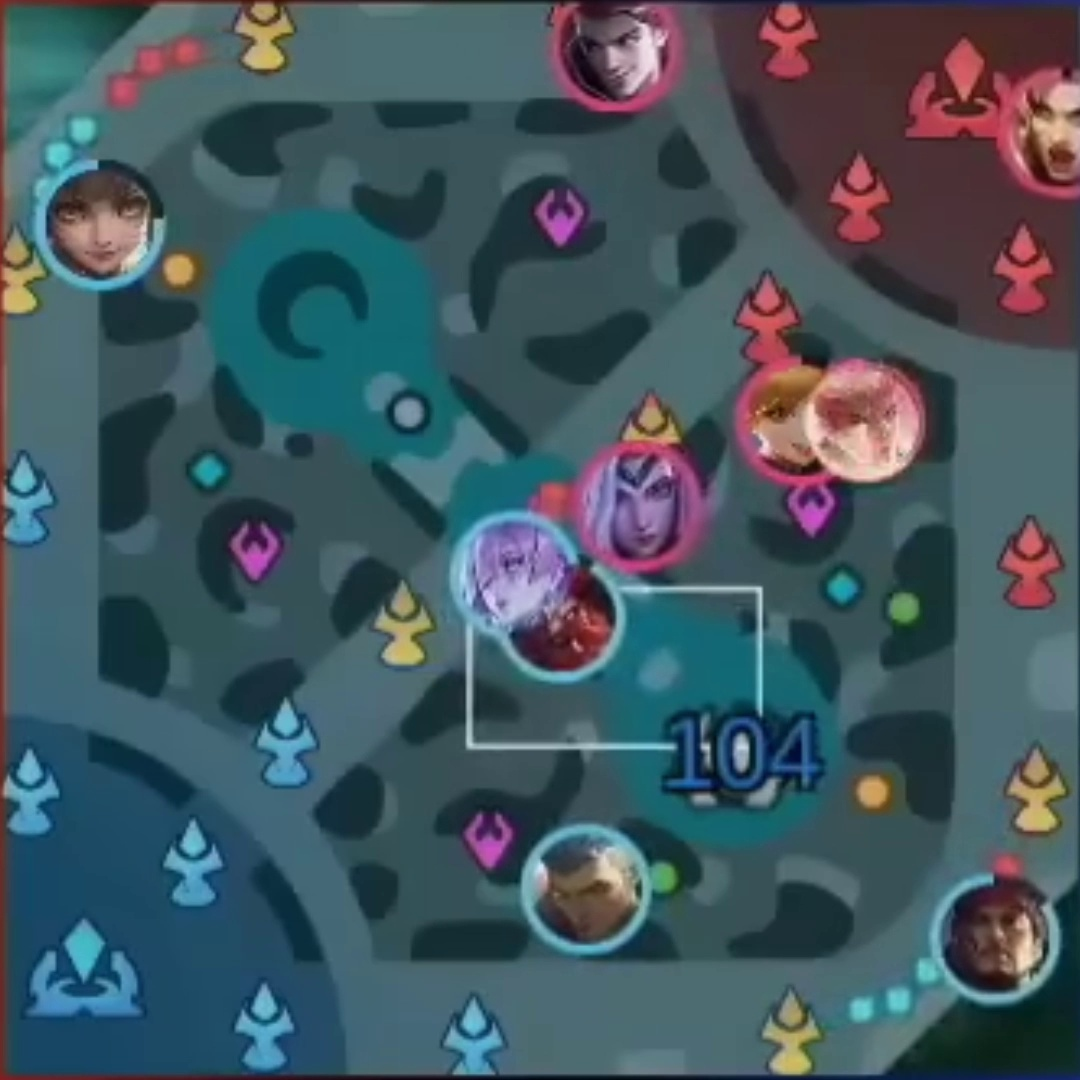Chou: (822, 373, 905, 472)
Claude: (576, 6, 663, 94)
Fanny: (756, 377, 818, 465)
Fredrinn: (539, 842, 630, 935)
Lapu-Lapu: (959, 888, 1042, 986)
Masha: (1022, 82, 1080, 184)
Minotaur: (523, 607, 607, 673)
Novaria: (470, 534, 558, 616)
Valentina: (593, 456, 687, 560)
Wanwan: (57, 175, 146, 268)
